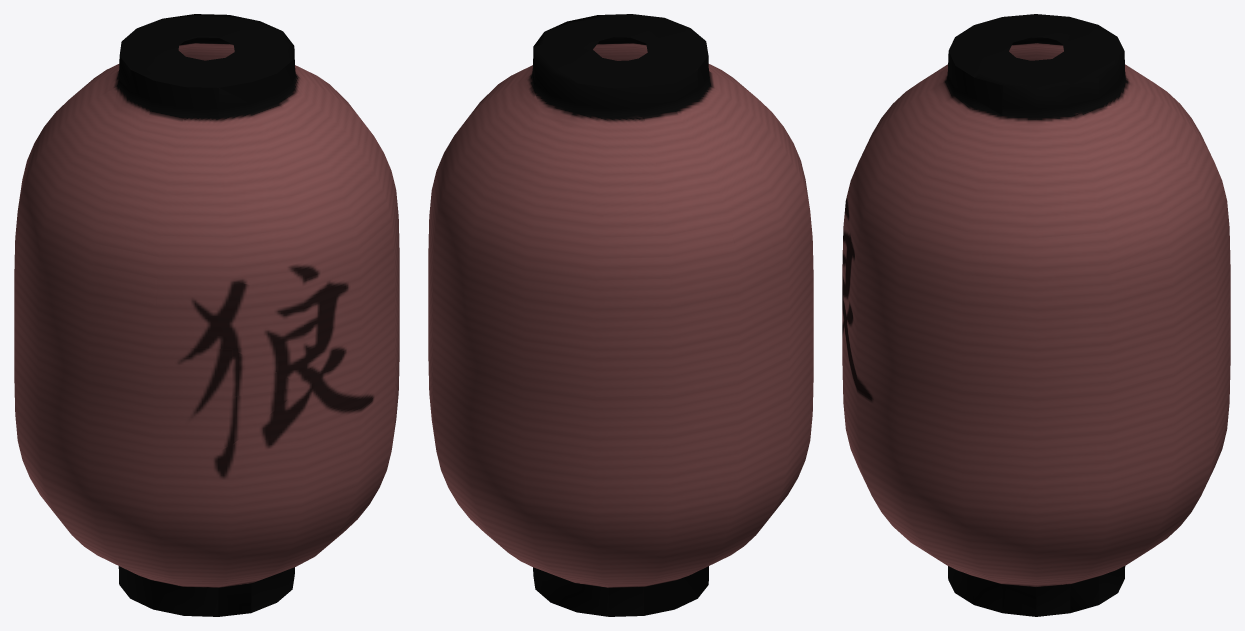
The model's file is chochin2.glb.
3 renders of one model, left to right at view 1: azimuth 30°, elevation 25°; view 2: azimuth 150°, elevation 25°; view 3: azimuth 270°, elevation 25°, orthographic.
Visible parts, largest first — view 1: mesh; view 2: mesh; view 3: mesh.
Boxes of the visible parts, box(x1,y1,x2,y2) form: mesh: box(14, 14, 399, 616); mesh: box(428, 14, 813, 616); mesh: box(842, 14, 1230, 616).
Size of the model in its own units: 0.2978 by 0.45 by 0.2978.
Materials: 1 (1 with a texture image).
